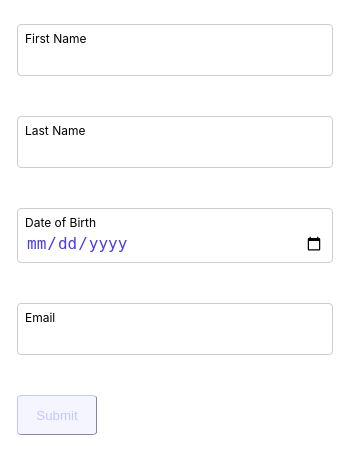
Test case: Sign Up Form › is invalid with the first name field provided
Click the field labelled "First Name" at (175, 50), box [17,24,333,76]
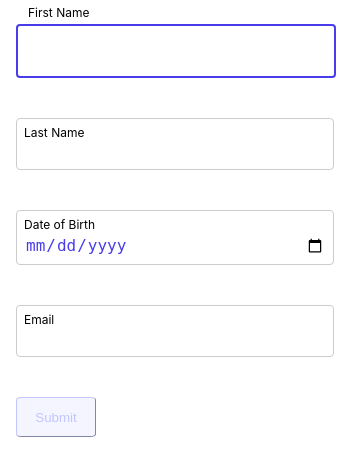
Type keys "Jenny"
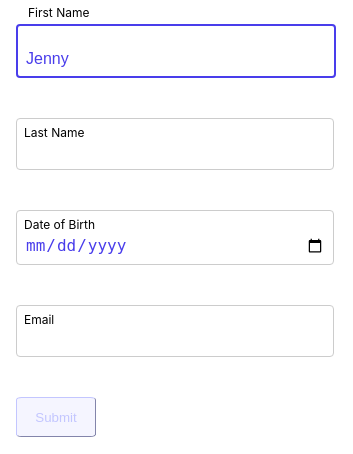
Check: the field labelled "First Name" holds "Jenny", box [16,24,336,78]
